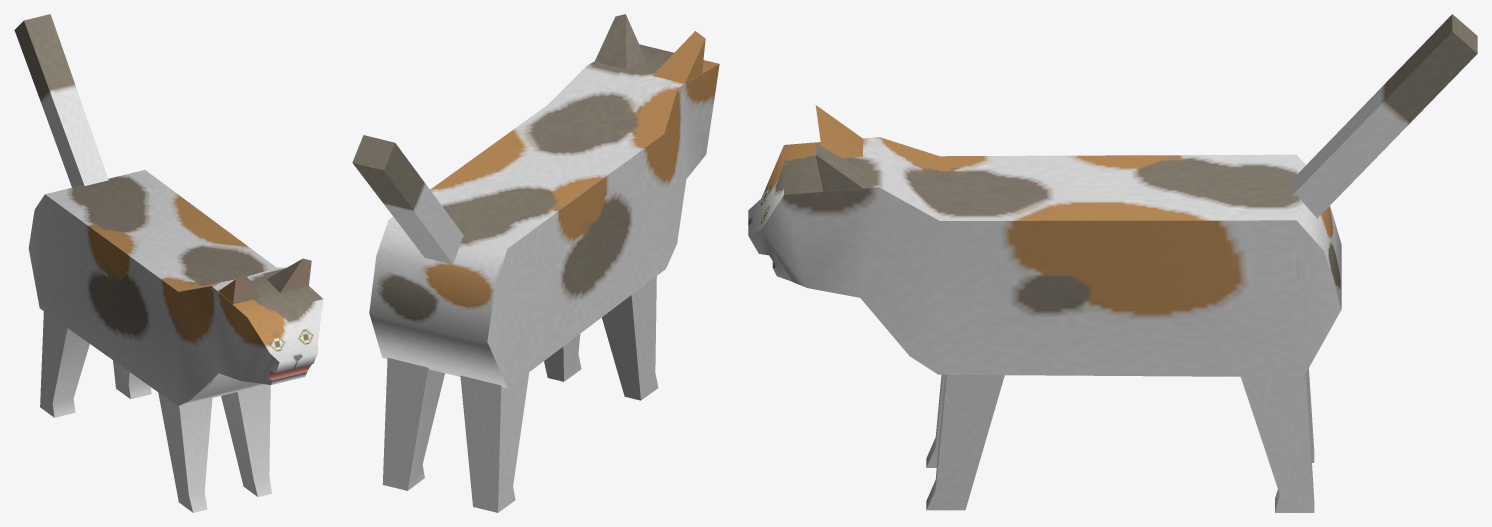
The model's file is cat.glb.
3 renders of one model, left to right at view 1: azimuth 30°, elevation 25°; view 2: azimuth 150°, elevation 25°; view 3: azimuth 270°, elevation 25°, orthographic. The views are drawn at different scales.
Parts seen in each view (by area): view 1: BODY 1.002, TAIL 1.002, Patte2, Patte3, Patte1, Patte4; view 2: BODY 1.002, Patte1, TAIL 1.002, Patte4, Patte2, Patte3; view 3: BODY 1.002, TAIL 1.002, Patte4, Patte3.
Boxes of the visible parts, box(x1,y1,x2,y2) form: BODY 1.002: box(28, 170, 323, 406); TAIL 1.002: box(14, 14, 108, 187); Patte2: box(158, 392, 212, 512); Patte3: box(221, 384, 271, 496); Patte1: box(40, 311, 89, 417); Patte4: box(113, 360, 151, 398); BODY 1.002: box(369, 14, 719, 388); Patte1: box(460, 372, 529, 512); TAIL 1.002: box(352, 135, 463, 264); Patte4: box(382, 358, 444, 490); Patte2: box(602, 276, 658, 400); Patte3: box(544, 334, 581, 381); BODY 1.002: box(748, 105, 1341, 377); TAIL 1.002: box(1292, 14, 1477, 218); Patte4: box(1241, 372, 1314, 512); Patte3: box(926, 374, 1004, 510).
Bounding box in the file's own units: 0.1266 × 0.3934 × 0.5632.
1 material, 1 textured.
